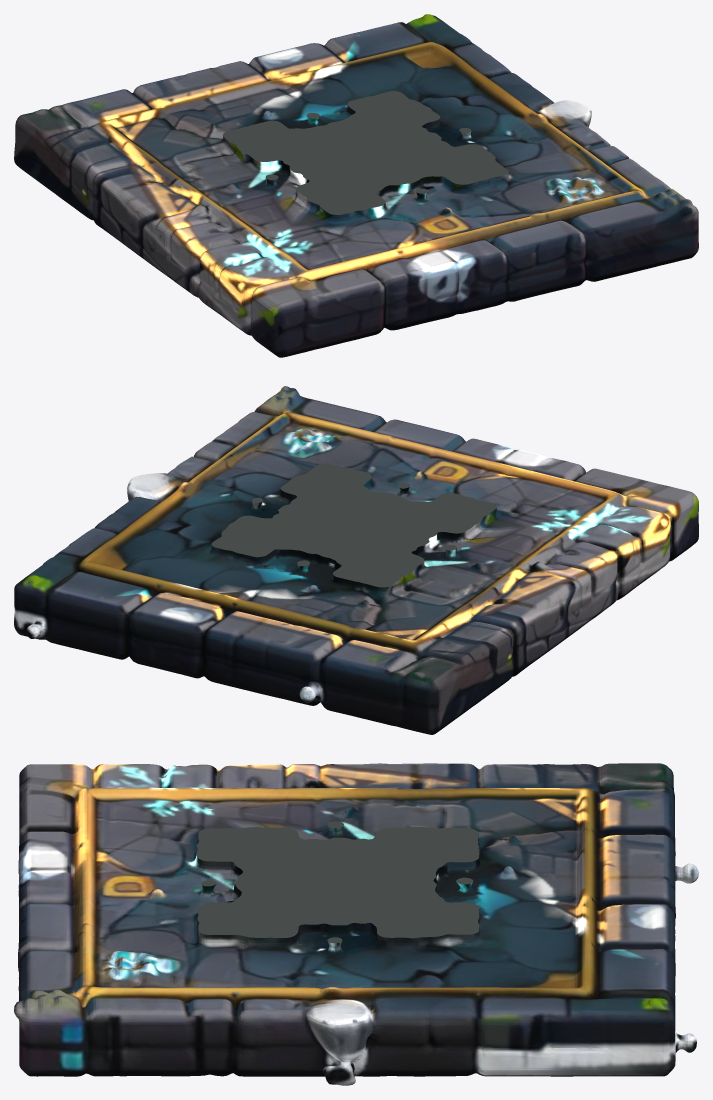
File: ice_lance_plate.glb
3 renders of one model, top to bottom at view 1: azimuth 30°, elevation 25°; view 2: azimuth 150°, elevation 25°; view 3: azimuth 270°, elevation 25°, orthographic. The views are drawn at different scales.
Parts seen in each view (by area): view 1: ice_lance_plate; view 2: ice_lance_plate; view 3: ice_lance_plate.
Part boxes in pixels (x1=…): ice_lance_plate: x1=14, y1=14, x2=698, y2=357; ice_lance_plate: x1=14, y1=386, x2=698, y2=734; ice_lance_plate: x1=14, y1=763, x2=698, y2=1085.
Bounding box in the file's own units: 1.84 × 0.2433 × 2.01.
Materials: 1 (1 with a texture image).
